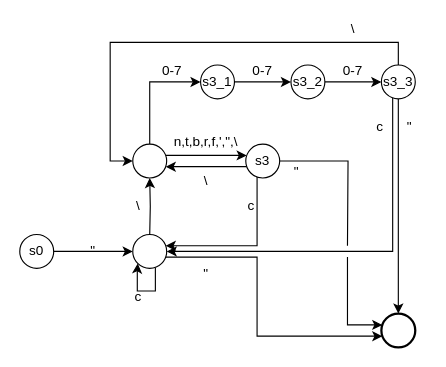
This 446x367 diagram has some shape labels left out. The centre of each missing label's shape, as x and y in pixels:
"s1" belongs at point (149, 250).
"s2" belongs at point (149, 160).
"s4" belongs at point (398, 330).
